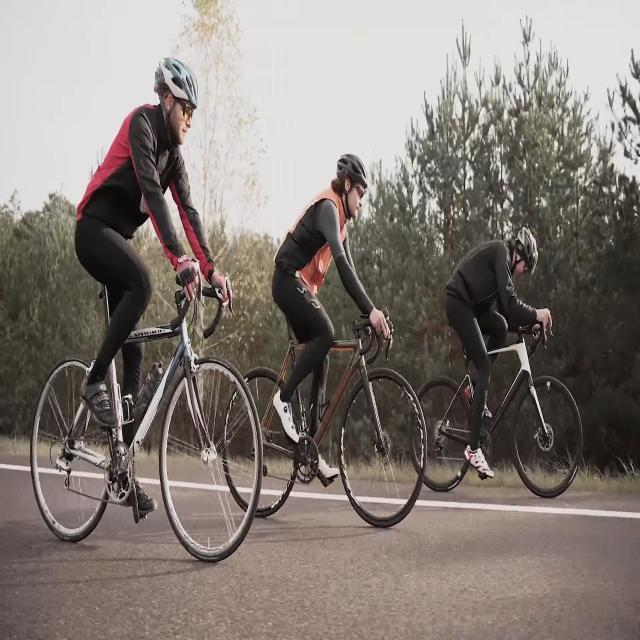Helmet: (149, 50, 202, 149), (329, 147, 371, 221), (501, 218, 542, 286)
bike: (28, 258, 269, 563), (221, 308, 426, 528), (410, 305, 589, 497)
rider: (76, 48, 233, 424), (275, 148, 391, 443), (442, 219, 554, 478)
